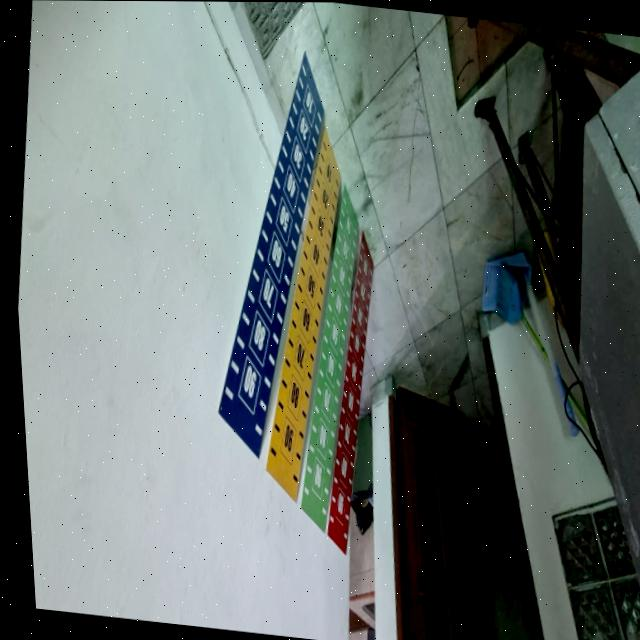water-meter: (179, 39, 356, 467), (228, 107, 380, 528), (273, 166, 386, 554), (302, 224, 399, 561)
